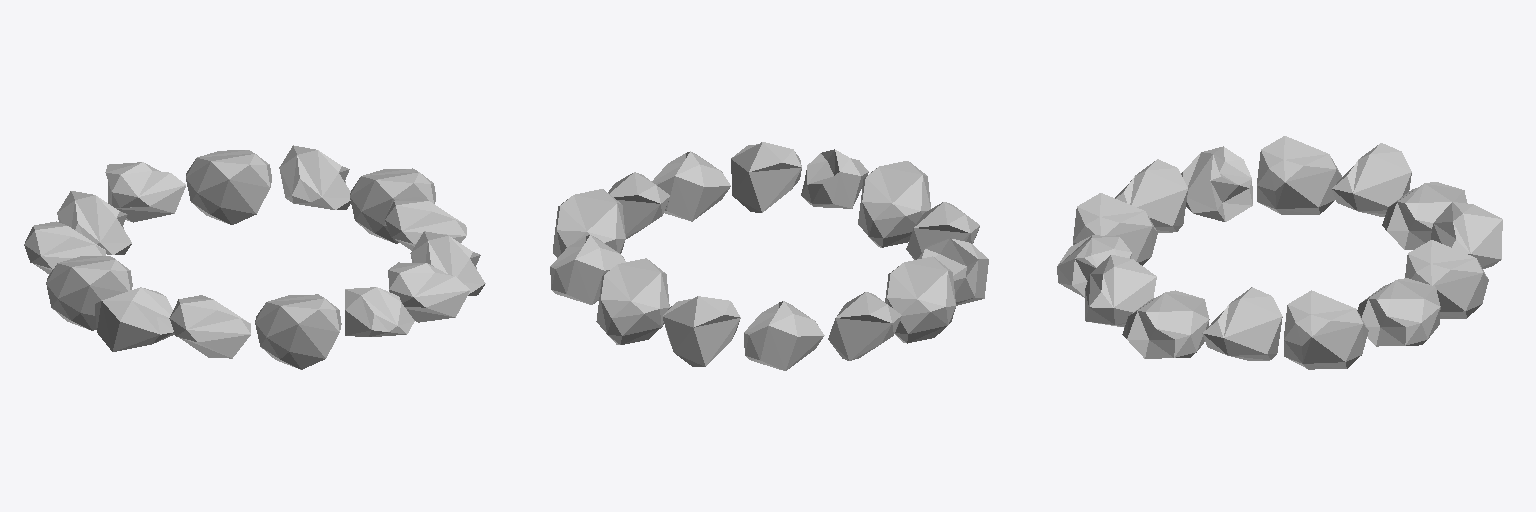
File: FireStones.obj
3 renders of one model, left to right at view 1: azimuth 30°, elevation 25°; view 2: azimuth 150°, elevation 25°; view 3: azimuth 270°, elevation 25°, orthographic.
Parts seen in each view (by area): view 1: Icosphere.021_Icosphere.057; view 2: Icosphere.021_Icosphere.057; view 3: Icosphere.021_Icosphere.057.
Part boxes in pixels (bbox=[...]): Icosphere.021_Icosphere.057: bbox=[24, 145, 485, 369]; Icosphere.021_Icosphere.057: bbox=[550, 142, 988, 370]; Icosphere.021_Icosphere.057: bbox=[1057, 136, 1502, 369].
Size of the model in its own units: 10.29 by 1.75 by 10.24.